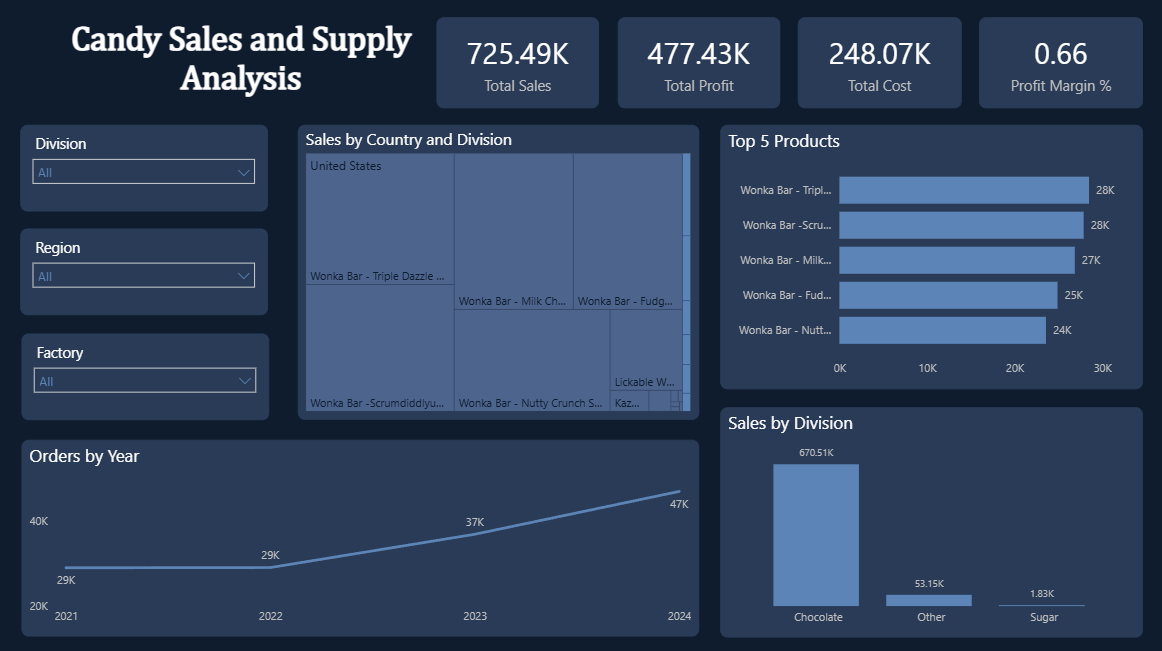

This screenshot's page, from the dashboard's own definition file:
{"tool":"powerbi","page":{"name":"Overview","canvas":[1280,720],"ordinal":0},"visuals":[{"type":"card","fields":{"Values":["Candy_Factories.Total Sales"]},"box":[480.3,23,178.7,100],"z":0},{"type":"card","fields":{"Values":["Candy_Factories.Total Profit"]},"box":[678.7,23,178.7,100],"z":1000},{"type":"card","fields":{"Values":["Candy_Factories.Profit Margin %"]},"box":[1075.4,23,180.3,100],"z":2000},{"type":"card","fields":{"Values":["Candy_Factories.Total Units"]},"box":[1396.7,21.7,180,100],"z":3000},{"type":"card","fields":{"Values":["Candy_Factories.Total Cost"]},"box":[877,23,180.3,100],"z":4000},{"type":"textbox","box":[23.3,21.7,485,171.7],"z":5000},{"type":"slicer","fields":{"Values":["Candy_Sales.Division"]},"box":[23.3,141.7,271.7,95],"z":6000},{"type":"slicer","fields":{"Values":["Candy_Sales.Region"]},"box":[23.3,255,271.7,95],"z":7000},{"type":"slicer","fields":{"Values":["Candy_Factories.Factory"]},"box":[25,370,271.7,95],"z":8000},{"type":"lineChart","title":"Orders by Year","fields":{"Y":["Sum(Candy_Sales.Sales)"],"Category":["Candy_Sales.Order Date.Variation.Date Hierarchy.Year"]},"box":[24.6,486.9,744.3,216.4],"z":9000},{"type":"clusteredColumnChart","title":"Sales by Division","fields":{"Category":["Candy_Sales.Division"],"Y":["Sum(Candy_Sales.Total sales)"]},"box":[791.8,450.8,463.9,252.5],"z":10000},{"type":"clusteredBarChart","title":"Top 5 Products","fields":{"Category":["Candy_Sales.Product Name"],"Y":["Sum(Candy_Sales.Sales)"]},"box":[791.8,141,463.9,290.2],"z":11000},{"type":"treemap","title":"Sales by Country and Division","fields":{"Group":["Candy_Sales.Country/Region"],"Values":["Sum(Candy_Sales.Total sales)"],"Details":["Candy_Sales.Product Name"]},"box":[328,141.3,440.5,323.8],"z":11001}]}

Visuals, with their boxes in screenshot pixels (x1, y1, x2, y2), scaled from the page's 1280x720 canvas onto the 1162x651 screenshot:
card - Candy_Factories.Total Sales: select_region(436, 21, 598, 111)
card - Candy_Factories.Total Profit: select_region(616, 21, 778, 111)
card - Candy_Factories.Profit Margin %: select_region(976, 21, 1140, 111)
card - Candy_Factories.Total Cost: select_region(796, 21, 960, 111)
textbox: select_region(21, 20, 461, 175)
slicer - Candy_Sales.Division: select_region(21, 128, 268, 214)
slicer - Candy_Sales.Region: select_region(21, 231, 268, 316)
slicer - Candy_Factories.Factory: select_region(23, 335, 269, 420)
"Orders by Year" lineChart: select_region(22, 440, 698, 636)
"Sales by Division" clusteredColumnChart: select_region(719, 408, 1140, 636)
"Top 5 Products" clusteredBarChart: select_region(719, 127, 1140, 390)
"Sales by Country and Division" treemap: select_region(298, 128, 698, 421)
